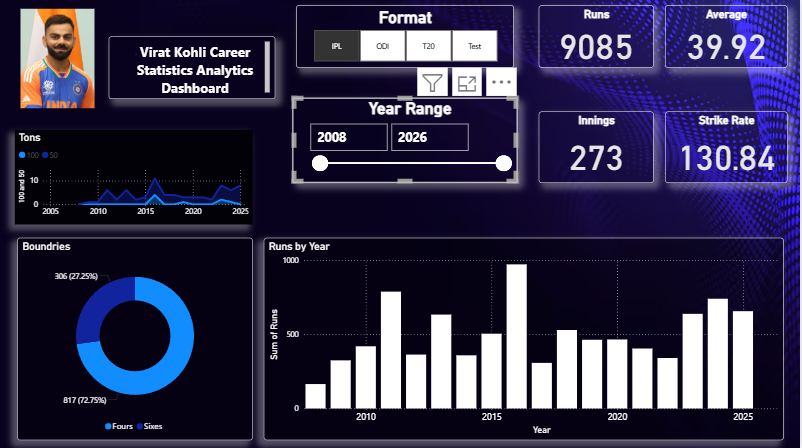

What the dashboard file says about the page in this screenshot:
{"tool":"powerbi","page":{"name":"Page 1","canvas":[1280,720],"ordinal":0},"visuals":[{"type":"image","box":[28,10,128,170],"z":0},{"type":"textbox","box":[174,60,266,100],"z":1000},{"type":"card","title":"Innings","fields":{"Values":["Sum(overall.Innings)"]},"box":[862,180,184,114],"z":2000},{"type":"card","title":"Runs","fields":{"Values":["Sum(overall.Runs)"]},"box":[862,10,184,100],"z":3000},{"type":"card","title":"Average","fields":{"Values":["Avg(overall.Avg)"]},"box":[1064,10,196,100],"z":4000},{"type":"card","title":"Strike Rate","fields":{"Values":["Avg(overall.SR)"]},"box":[1064,180,196,114],"z":5000},{"type":"slicer","title":"Format","fields":{"Values":["overall.Format"]},"box":[474,10,348,100],"z":6000},{"type":"slicer","title":"Year Range","fields":{"Values":["overall.Year"]},"box":[468,158,360,136],"z":7000},{"type":"clusteredColumnChart","title":"Runs by Year","fields":{"Category":["overall.Year"],"Y":["Sum(overall.Runs)"]},"box":[422,382,832,324],"z":8000},{"type":"donutChart","title":"Boundries","fields":{"Y":["Sum(overall.4s)","Sum(overall.6s)"]},"box":[28,382,376,324],"z":9000},{"type":"stackedAreaChart","title":"Tons","fields":{"Category":["overall.Year"],"Y":["Sum(overall.100)","Sum(overall.50)"]},"box":[24,210,380,150],"z":10000}]}

Visuals, with their boxes in screenshot pixels (x1, y1, x2, y2), scaled from the page's 1280x720 canvas onto the 802x448 screenshot:
image: [18, 6, 98, 112]
textbox: [109, 37, 276, 100]
"Innings" card: [540, 112, 655, 183]
"Runs" card: [540, 6, 655, 68]
"Average" card: [667, 6, 789, 68]
"Strike Rate" card: [667, 112, 789, 183]
"Format" slicer: [297, 6, 515, 68]
"Year Range" slicer: [293, 98, 519, 183]
"Runs by Year" clusteredColumnChart: [264, 238, 786, 439]
"Boundries" donutChart: [18, 238, 253, 439]
"Tons" stackedAreaChart: [15, 131, 253, 224]
